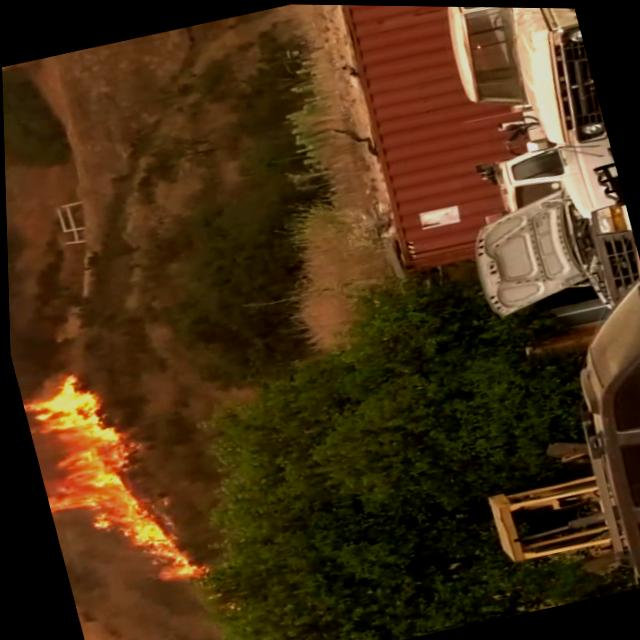fire: (11, 341, 204, 611)
